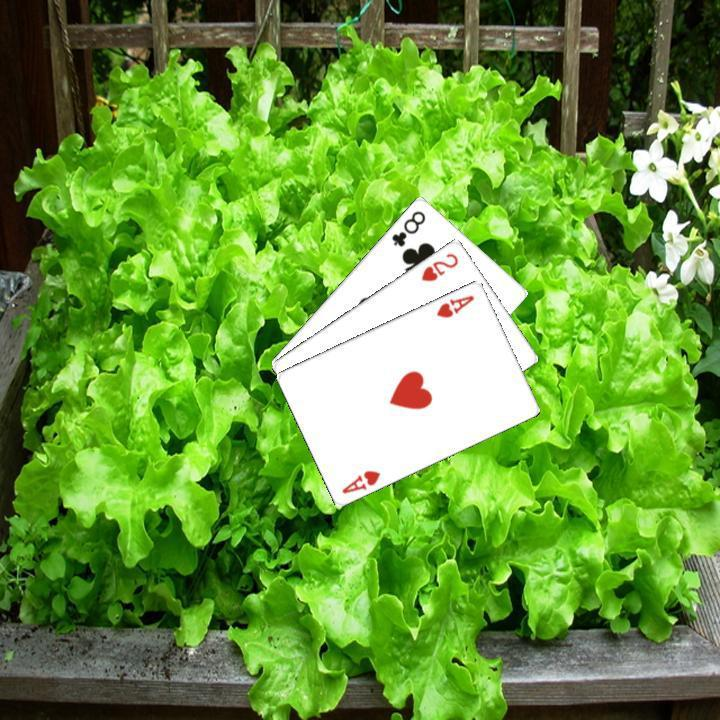2: (417, 248, 460, 283)
8: (387, 206, 428, 248)
A: (337, 465, 382, 495), (432, 290, 476, 319)
